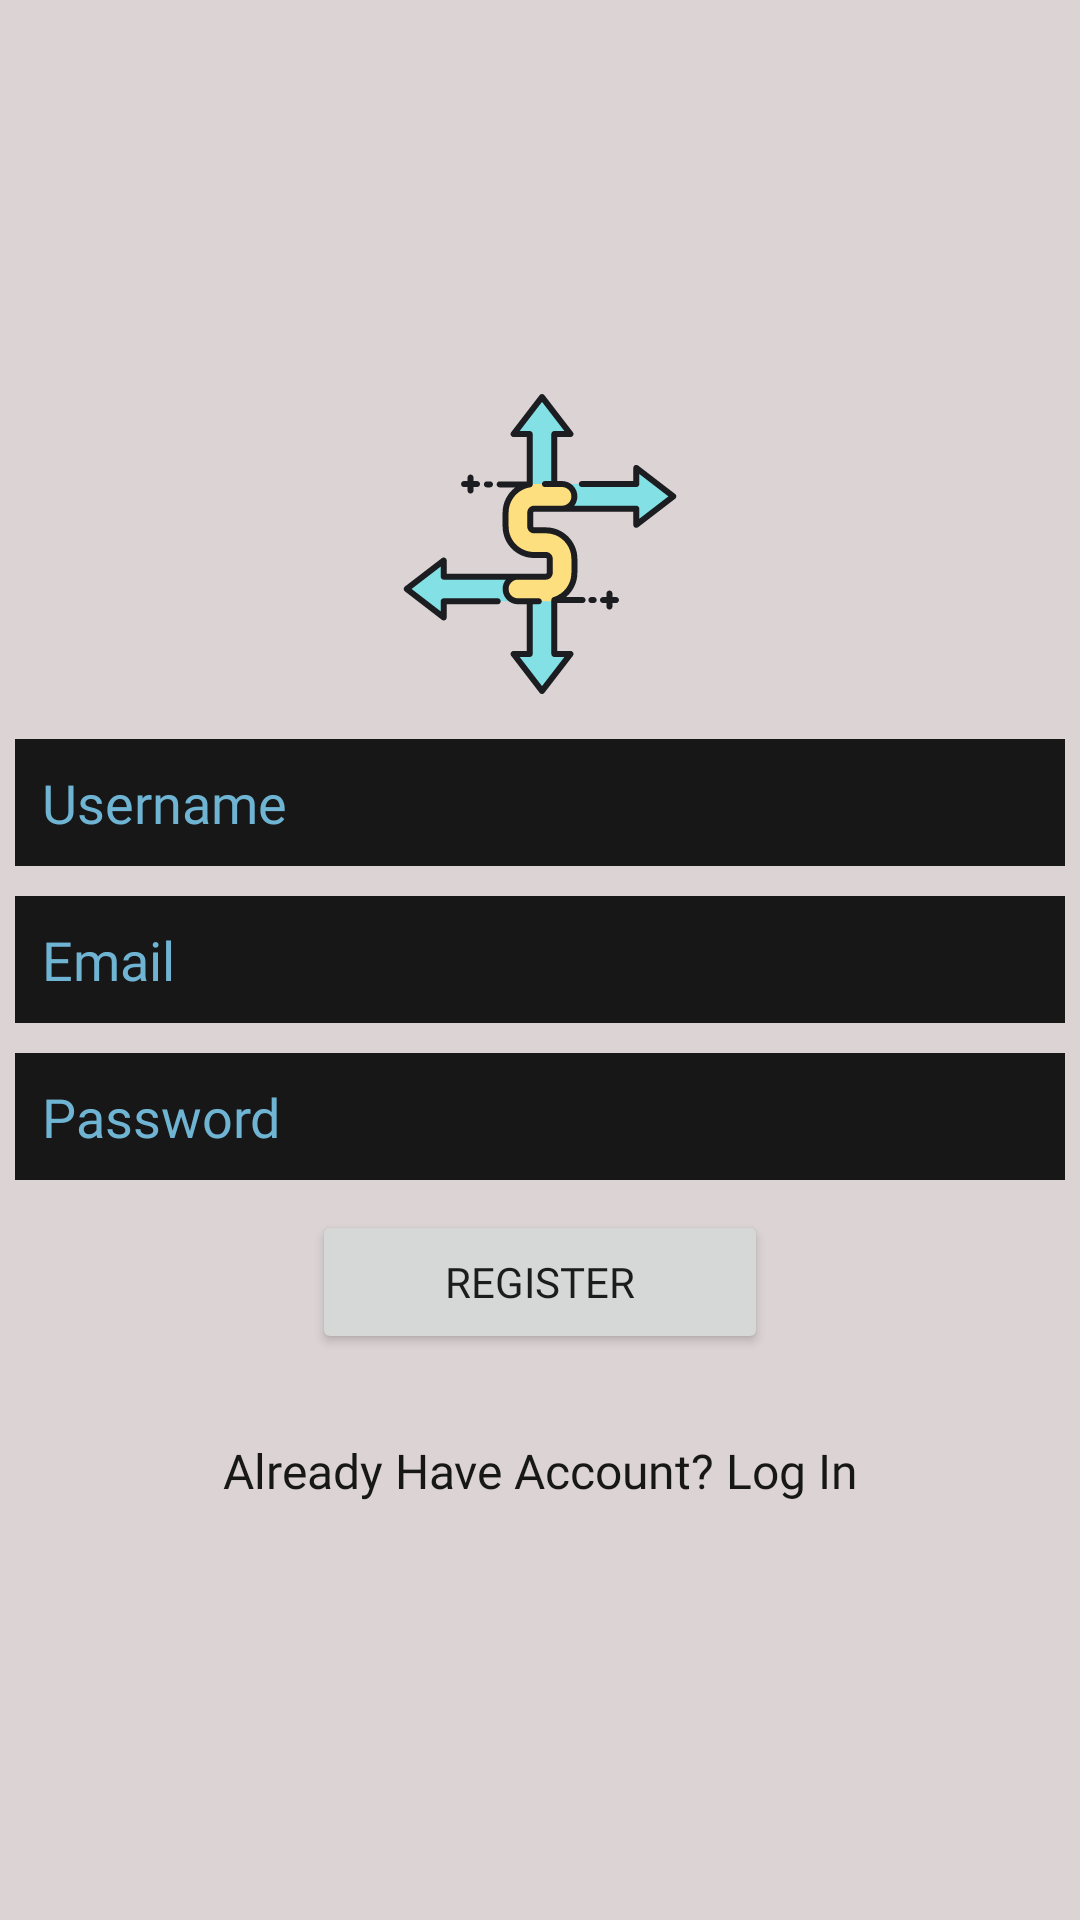

Point at icon controls on the screen. Image size 1080 × 1920, points as (x,y).
expenses: (540,544)
